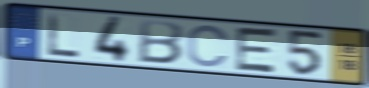4: (91, 14, 132, 64)
5: (285, 27, 325, 79)
B: (135, 18, 186, 66)
C: (185, 23, 232, 69)
E: (232, 25, 281, 76)
L: (46, 11, 82, 59)
